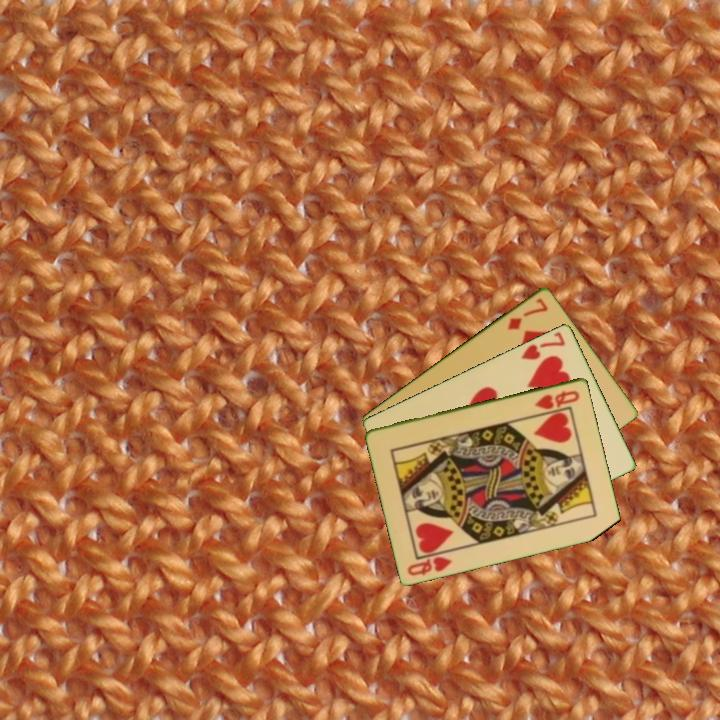7d: (504, 294, 551, 332)
7h: (517, 327, 568, 363)
Qh: (404, 547, 457, 578), (531, 387, 583, 412)
